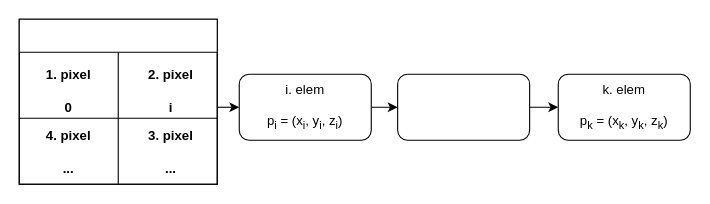
The diagram is 710 pixels wide and 204 high, and some of its shapes have lost their labels. Here are the shapes that lost their labels. From the top down, the box of each, then its label:
(18, 18, 217, 184): PixelBuffer
(397, 73, 530, 140): j. elem p j = (x j , y j , z j )
